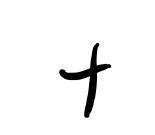plus: (59, 43, 111, 118)
